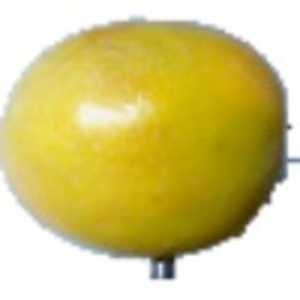maracujá: (1, 15, 300, 283)
